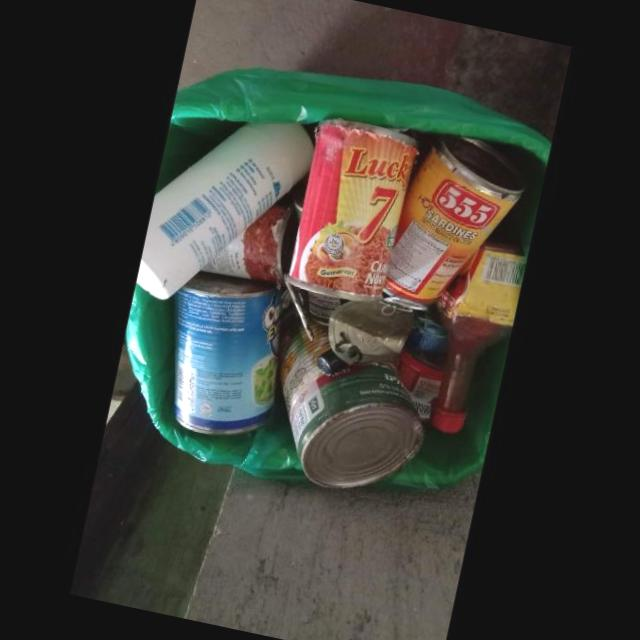hop_nhua: (136, 121, 315, 299), (431, 238, 527, 432)
nhom: (284, 117, 419, 340), (383, 134, 527, 309), (276, 325, 425, 488), (174, 269, 282, 434), (201, 194, 292, 282), (328, 298, 416, 363)
